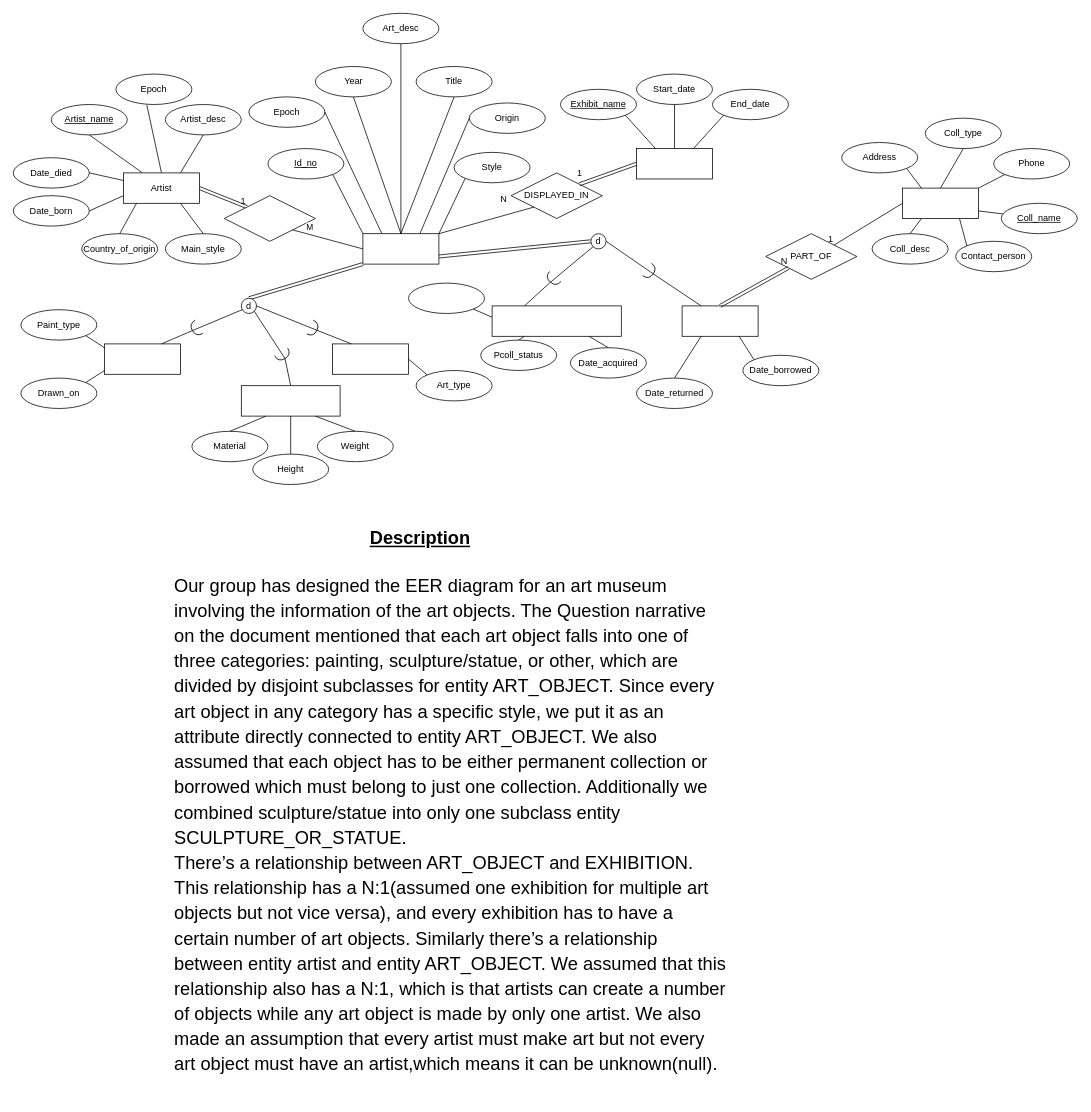
Some shapes in this 1091 by 1112 pixel diagram are drawn without their labels. The centre of each missing label's shape, as x and y in pixels:
"ART_OBJECT" belongs at (400,248).
"BORROWED" belongs at (719,320).
"COLLECTION" belongs at (940,202).
"Cost" belongs at (446,298).
"CREATES" belongs at (269,218).
"EXHIBITION" belongs at (674,163).
"OTHER" belongs at (370,358).
"PAINTING" belongs at (142,358).
"PERMANENT_COLLECTION" belongs at (556,320).
"SCULPTURE_OR _STATUE" belongs at (290,400).
